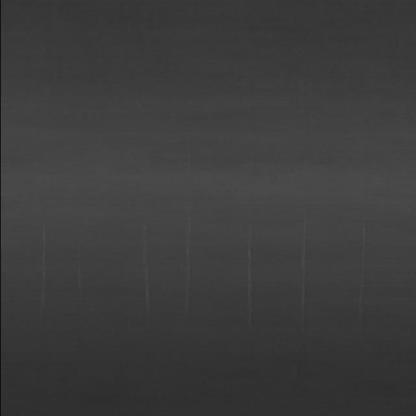waist_folding: (45, 226, 352, 345)
